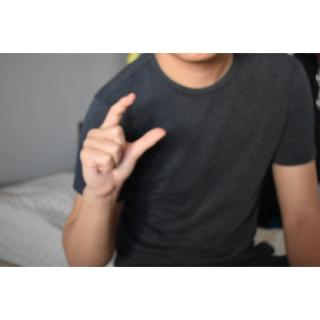DELL: (79, 89, 174, 203)
